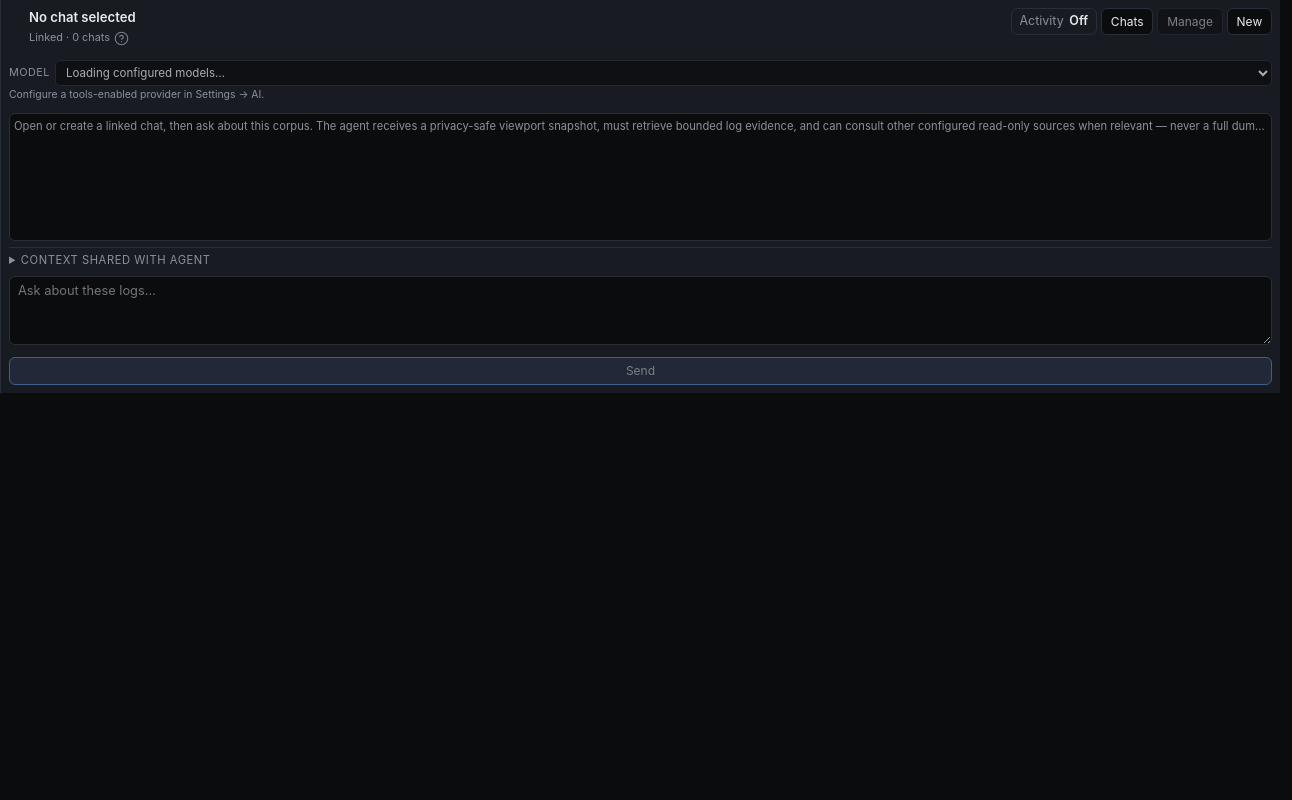
Scenario: LinkedChatRail › shows active noise policy with excluded count and not-analyzed wording (#817)
Click the heading "Context shared with agent". click: (116, 260)
box: [21,253,211,267]
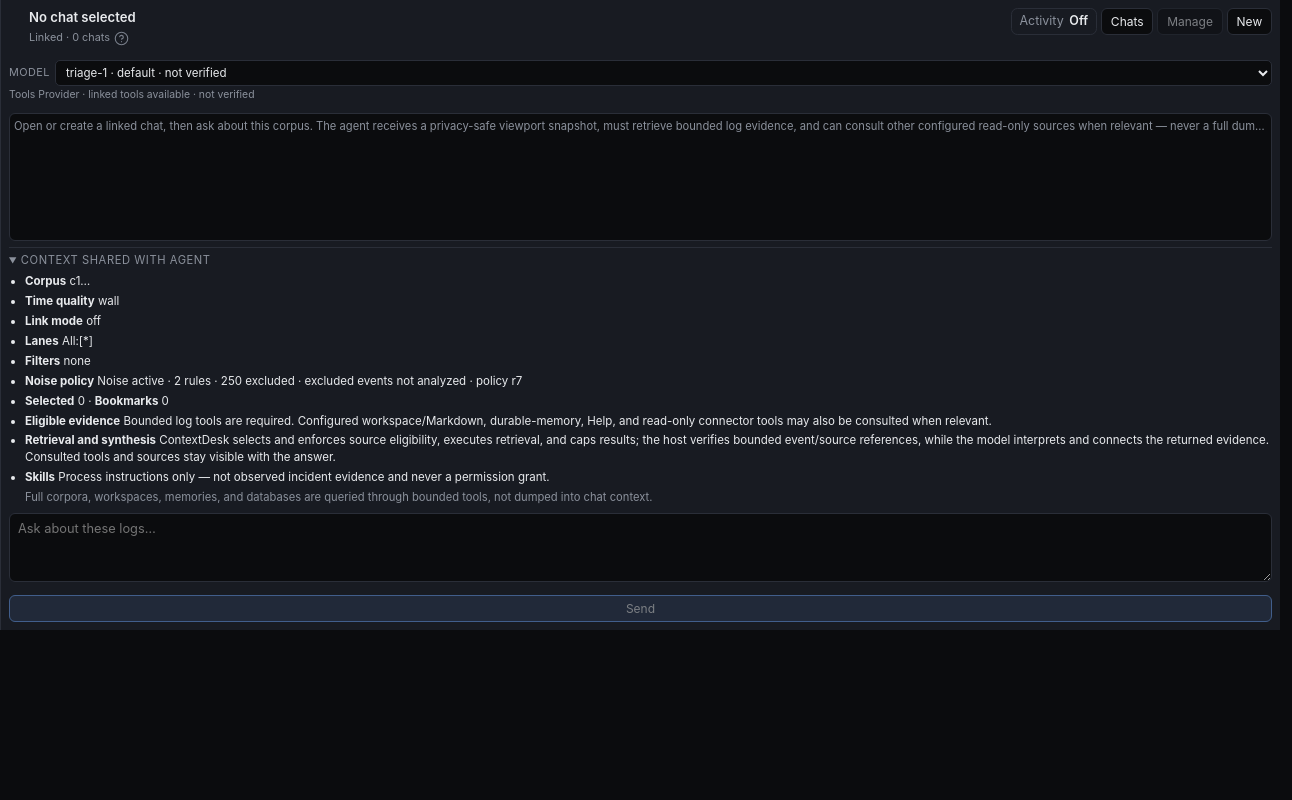
Check: the list item with test id "linked-chat-noise-context" shows "Noise policy", box [25,374,94,388]
Check: the list item with test id "linked-chat-noise-context" shows "2 rules", box [97,374,522,388]
Check: the list item with test id "linked-chat-noise-context" shows "250 excluded", box [97,374,522,388]
